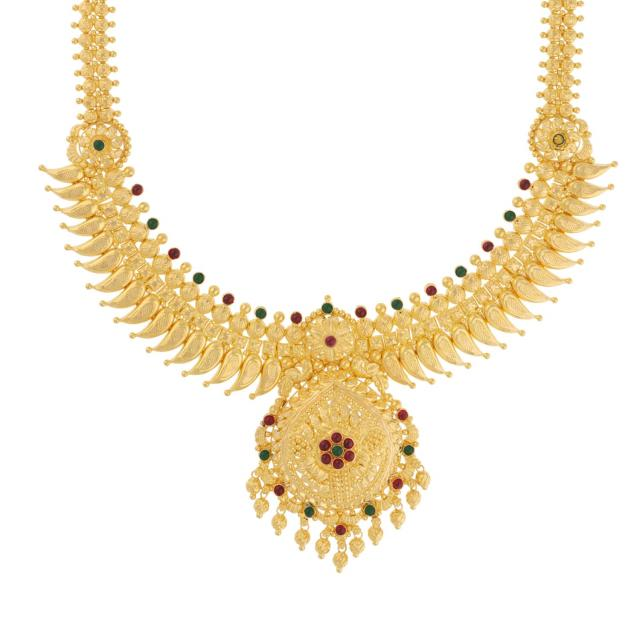missing gem: (553, 134, 564, 145)
